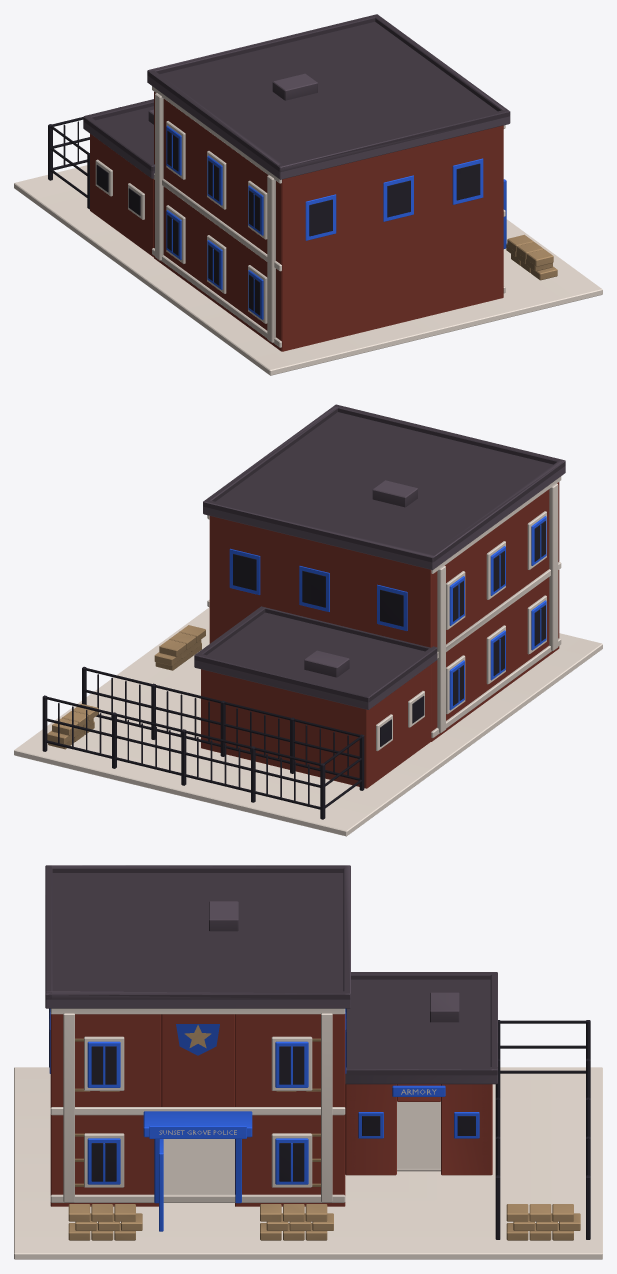
3 renders of one model, top to bottom at view 1: azimuth 30°, elevation 25°; view 2: azimuth 150°, elevation 25°; view 3: azimuth 270°, elevation 25°, orthographic. The views are drawn at different scales.
Parts seen in each view (by area): view 1: body_pal_brick, roof_pal_asphalt, body_pal_picketWhite, body_pal_uiDark, body_pal_policeBlue, body_pal_khaki; view 2: roof_pal_asphalt, body_pal_brick, body_pal_picketWhite, body_pal_uiDark, body_pal_policeBlue, body_pal_khaki; view 3: body_pal_picketWhite, roof_pal_asphalt, body_pal_brick, body_pal_policeBlue, body_pal_khaki, body_pal_uiDark, interior_pal_picketWhite.
Boxes of the visible parts, left/top/right/bottom form: body_pal_brick: left=90, top=92, right=503, bottom=351; roof_pal_asphalt: left=83, top=14, right=510, bottom=179; body_pal_picketWhite: left=14, top=86, right=602, bottom=375; body_pal_uiDark: left=48, top=107, right=480, bottom=315; body_pal_policeBlue: left=166, top=125, right=483, bottom=319; body_pal_khaki: left=506, top=234, right=557, bottom=280; roof_pal_asphalt: left=194, top=404, right=565, bottom=709; body_pal_brick: left=201, top=482, right=559, bottom=788; body_pal_picketWhite: left=14, top=476, right=602, bottom=836; body_pal_uiDark: left=42, top=521, right=545, bottom=819; body_pal_policeBlue: left=229, top=516, right=546, bottom=710; body_pal_khaki: left=47, top=625, right=205, bottom=749; body_pal_picketWhite: left=14, top=1008, right=602, bottom=1259; roof_pal_asphalt: left=45, top=865, right=497, bottom=1084; body_pal_brick: left=50, top=1014, right=492, bottom=1206; body_pal_policeBlue: left=49, top=1008, right=479, bottom=1203; body_pal_khaki: left=68, top=1025, right=580, bottom=1240; body_pal_uiDark: left=49, top=1008, right=590, bottom=1239; interior_pal_picketWhite: left=163, top=1101, right=440, bottom=1194.
Size of the model in its own units: 12 by 6.85 by 16.
